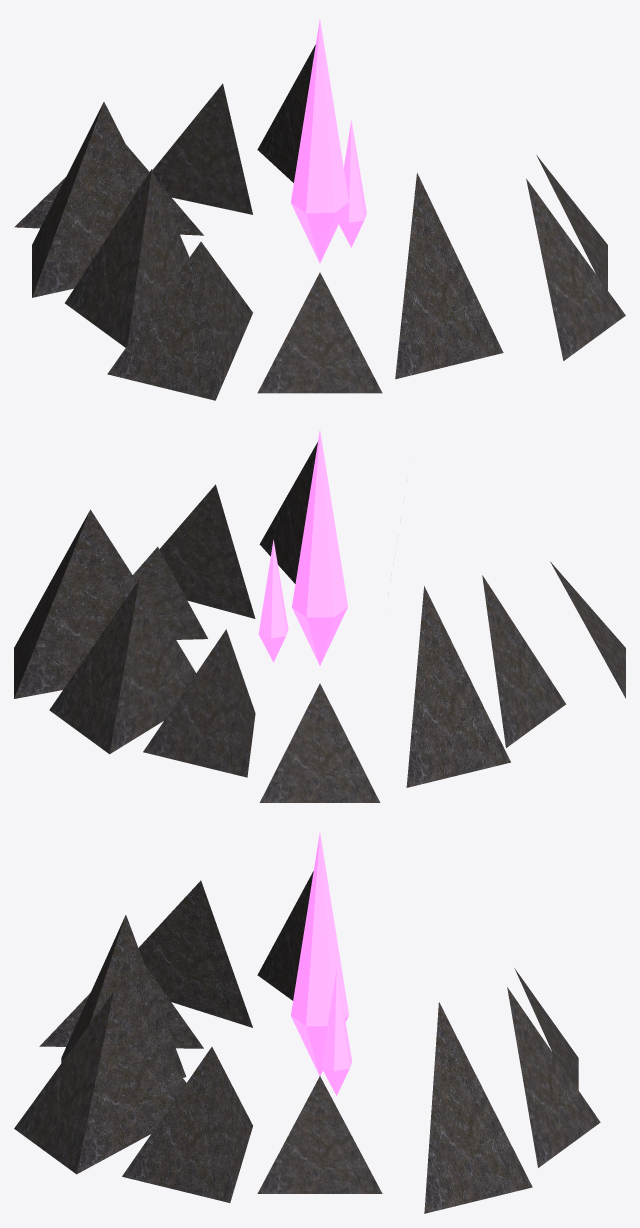
The model's file is crater.gltf.
The picture shows the model from 3 angles, top to bottom: view 1: azimuth 30°, elevation 25°; view 2: azimuth 150°, elevation 25°; view 3: azimuth 270°, elevation 25°; orthographic projection. The views are drawn at different scales.
Size of the model in its own units: 14.66 by 6.7 by 14.66.
2 materials, 1 textured.
